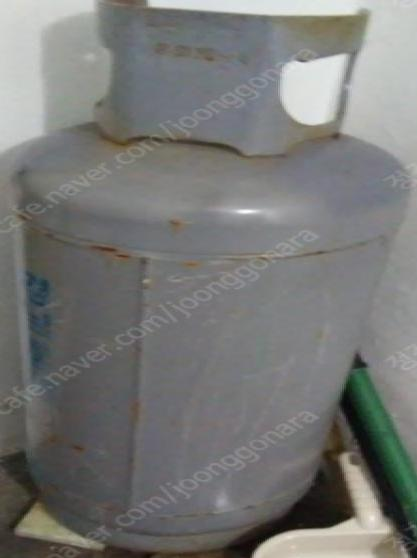cylinder: (1, 0, 417, 558)
